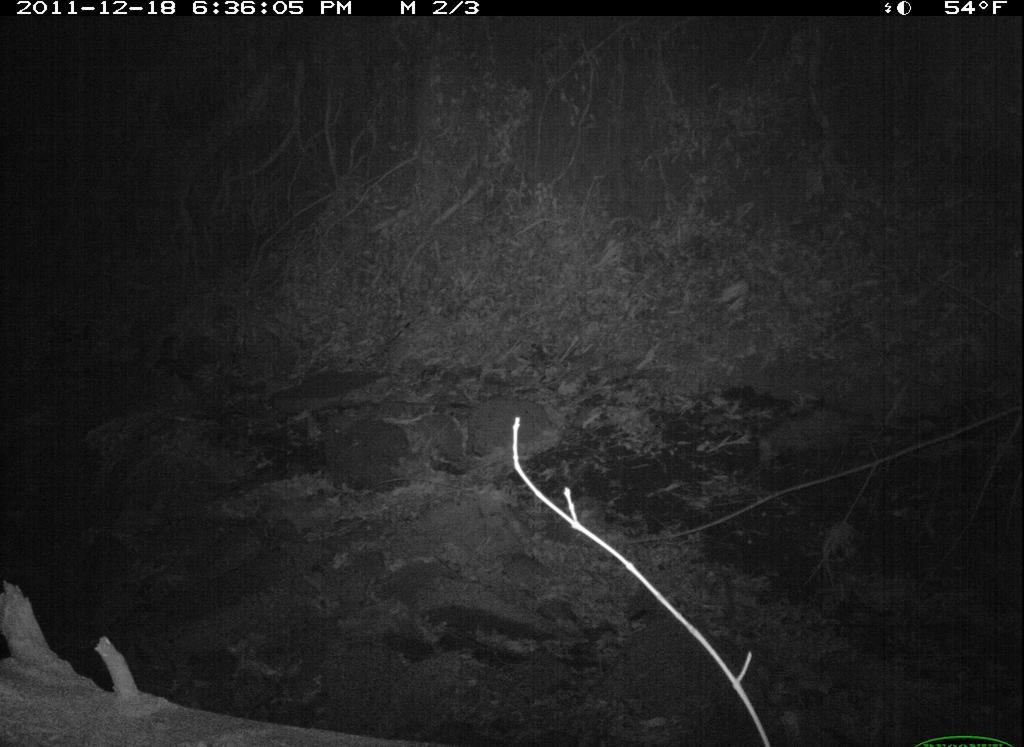opossum: (758, 408, 887, 470)
